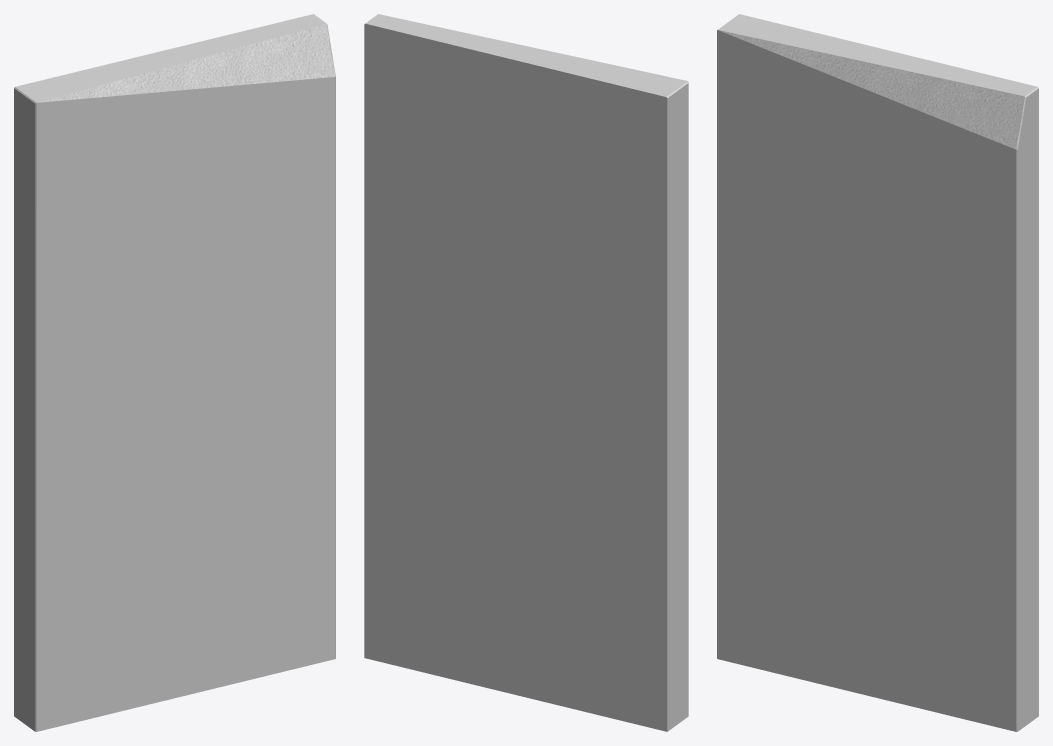
File: cnfcc581183d_tkf.glb
3 renders of one model, left to right at view 1: azimuth 30°, elevation 25°; view 2: azimuth 150°, elevation 25°; view 3: azimuth 330°, elevation 25°, orthographic.
Visible parts, largest first — view 1: Pam-v-001-3, Pam-v-001-3_2_notexture; view 2: Pam-v-001-3; view 3: Pam-v-001-3, Pam-v-001-3_2_notexture.
Part boxes in pixels (bbox=[...]): Pam-v-001-3: bbox=[14, 14, 335, 731]; Pam-v-001-3_2_notexture: bbox=[37, 23, 335, 102]; Pam-v-001-3: bbox=[364, 14, 688, 731]; Pam-v-001-3: bbox=[717, 14, 1038, 731]; Pam-v-001-3_2_notexture: bbox=[718, 30, 1025, 149].
Bounding box in the file's own units: 0.4 × 0.8 × 0.05.
1 material, 1 textured.
